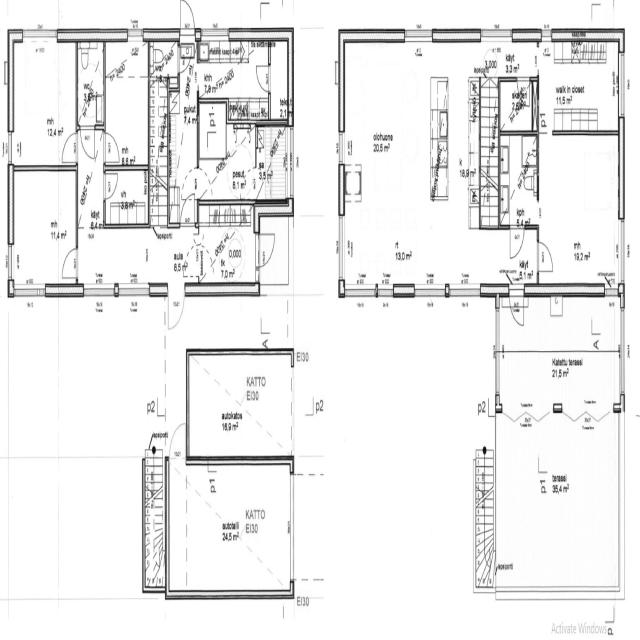door: (225, 52, 271, 98), (168, 418, 188, 465), (255, 228, 277, 270), (166, 286, 186, 329), (508, 284, 526, 328), (60, 243, 80, 282), (536, 236, 555, 274), (60, 127, 79, 163), (79, 122, 97, 160), (254, 58, 272, 94), (179, 192, 197, 228), (509, 223, 526, 258), (104, 128, 121, 162), (179, 0, 196, 34), (195, 164, 212, 197), (103, 166, 119, 198), (181, 163, 198, 193), (243, 165, 258, 194), (178, 46, 192, 74)
window: (286, 466, 297, 582), (615, 212, 627, 287), (12, 278, 49, 301), (116, 278, 152, 299), (412, 280, 448, 300), (336, 212, 346, 283), (448, 280, 483, 300), (343, 282, 378, 302), (22, 23, 58, 42), (617, 46, 626, 120), (403, 23, 434, 43), (82, 280, 116, 298), (479, 24, 514, 41), (6, 239, 16, 281), (200, 23, 230, 37), (377, 281, 396, 300), (337, 128, 346, 166), (125, 26, 145, 42), (6, 129, 14, 164), (540, 23, 552, 42)
zone: (344, 38, 501, 286), (537, 132, 620, 291), (9, 36, 79, 166), (9, 164, 78, 288), (536, 37, 621, 132), (105, 37, 150, 168), (196, 38, 269, 107), (196, 209, 256, 280), (500, 135, 539, 228), (104, 167, 148, 227), (76, 39, 105, 124), (256, 121, 288, 198), (145, 460, 164, 588), (224, 123, 256, 197), (498, 76, 536, 131), (269, 34, 291, 123), (149, 76, 169, 166), (198, 99, 227, 159), (150, 38, 179, 80), (519, 134, 539, 166)
